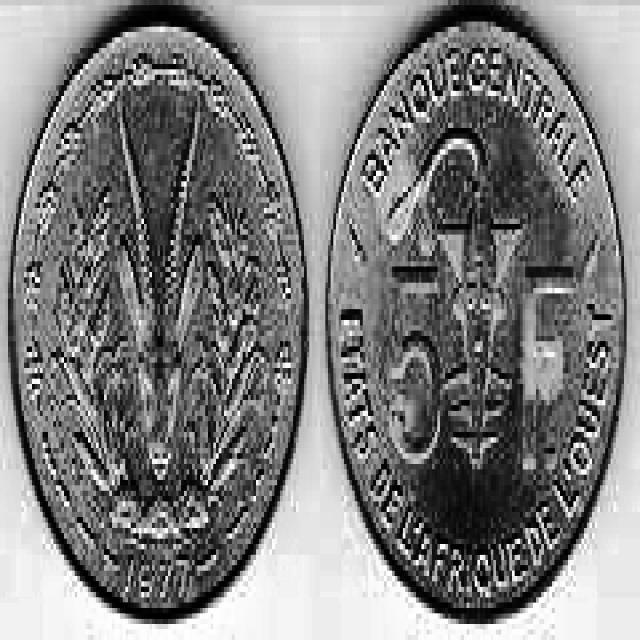derem: (329, 22, 624, 610), (11, 25, 304, 608), (12, 25, 304, 608)
